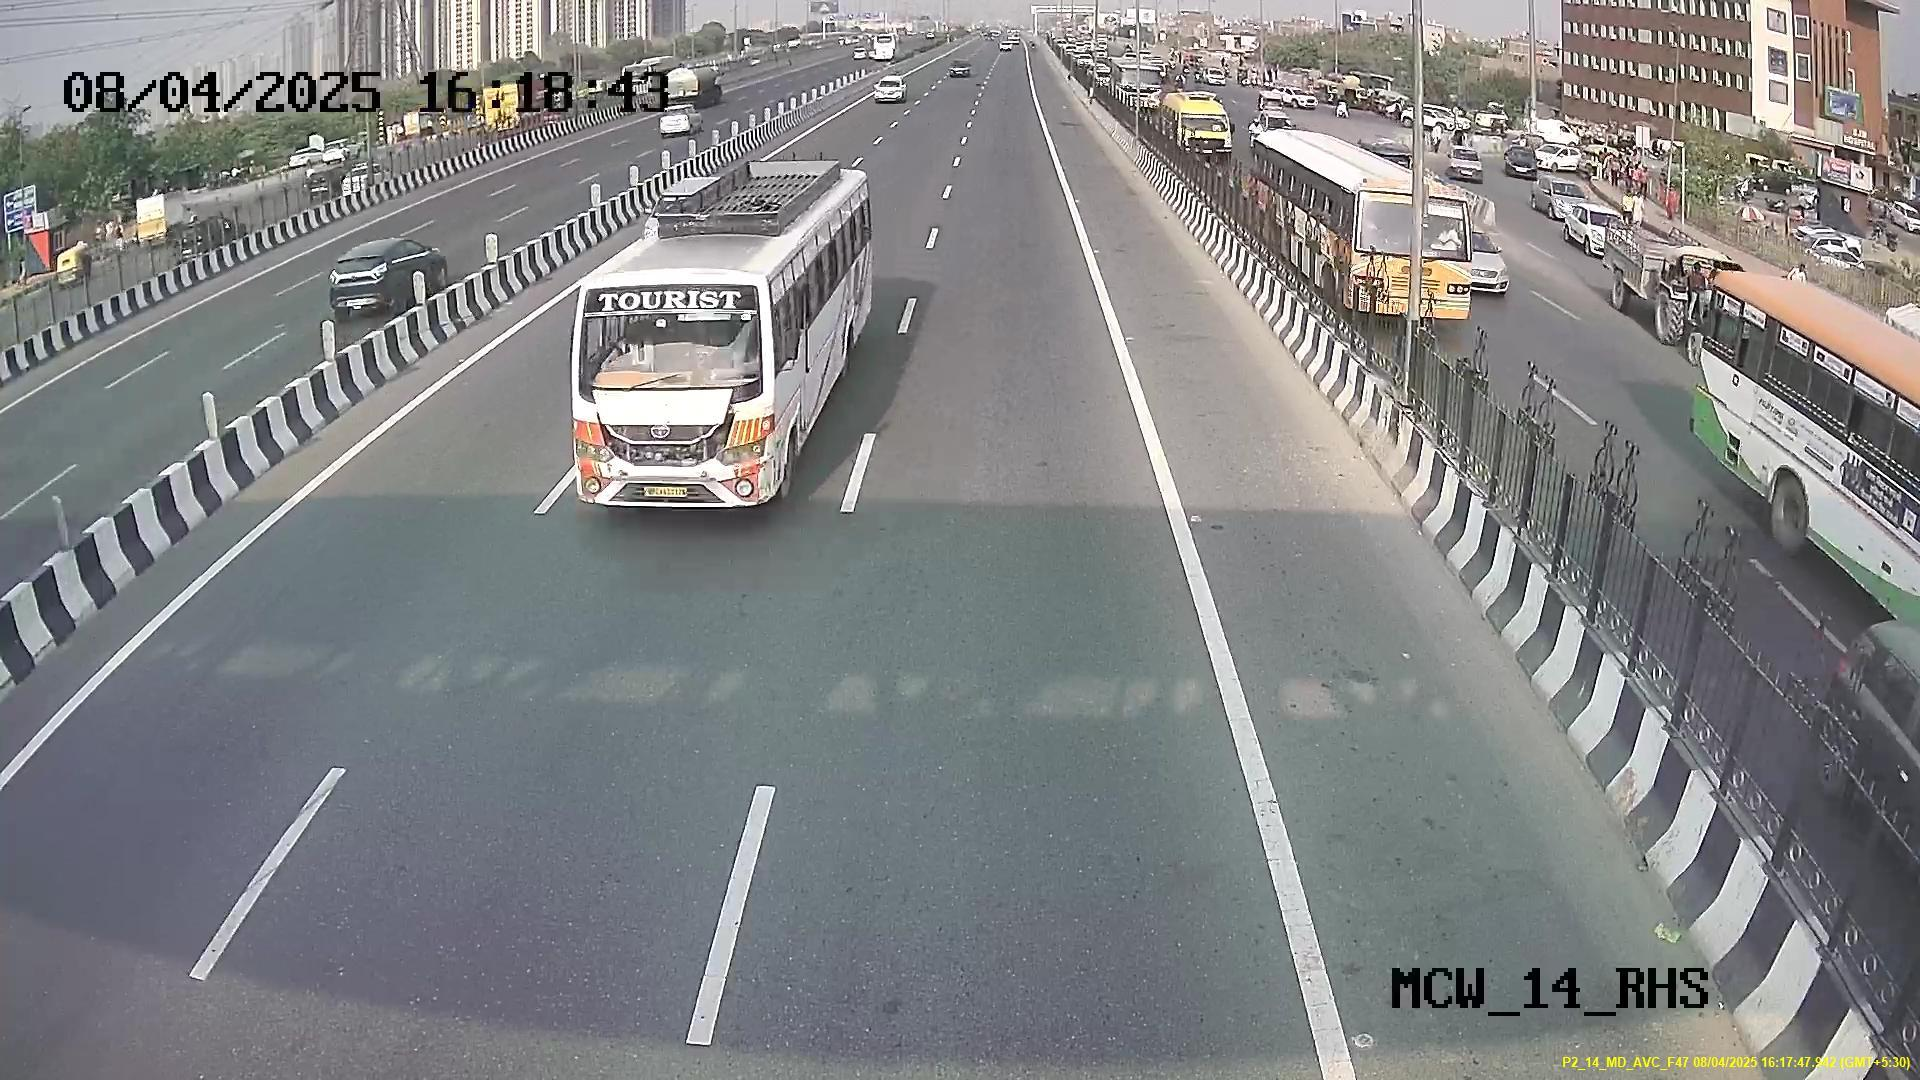bus: (571, 218, 840, 512)
